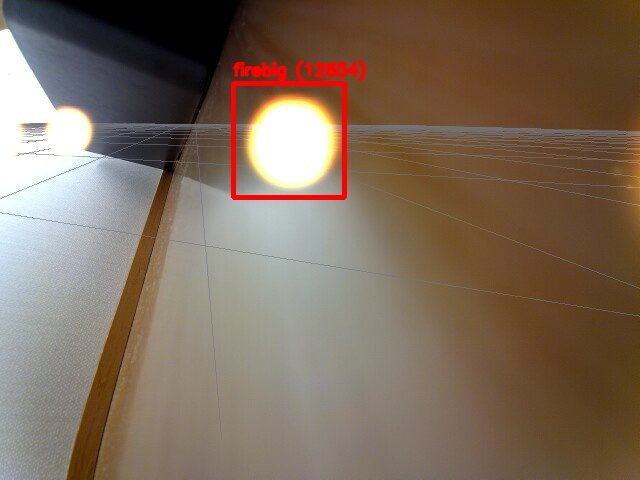firebig: (233, 83, 344, 197)
